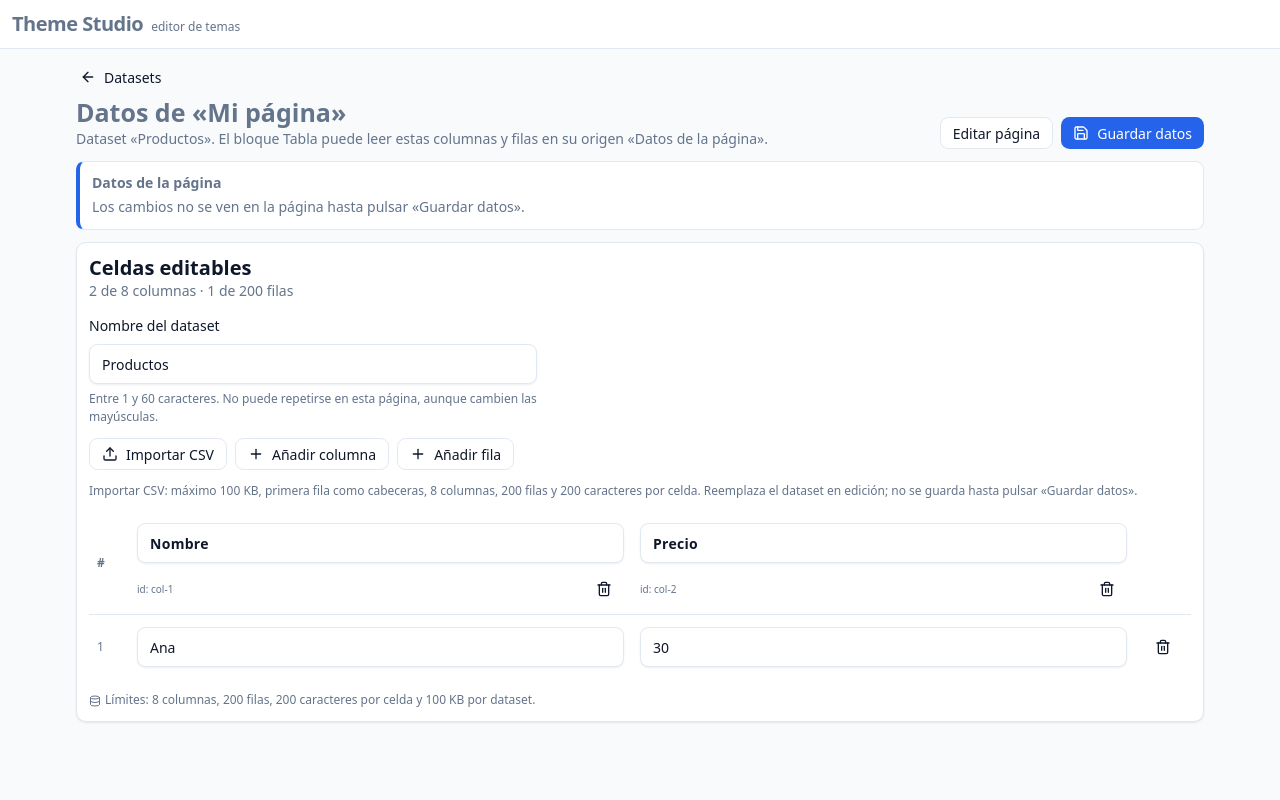
Test case: DatasetPage › elimina una columna solo tras confirmar en el diálogo
Expected: the field named "Etiqueta de la columna 2" is shown, [640,523,1127,563]
Click the button named "Eliminar columna 2" at (1107, 589), box [1087,569,1127,609]
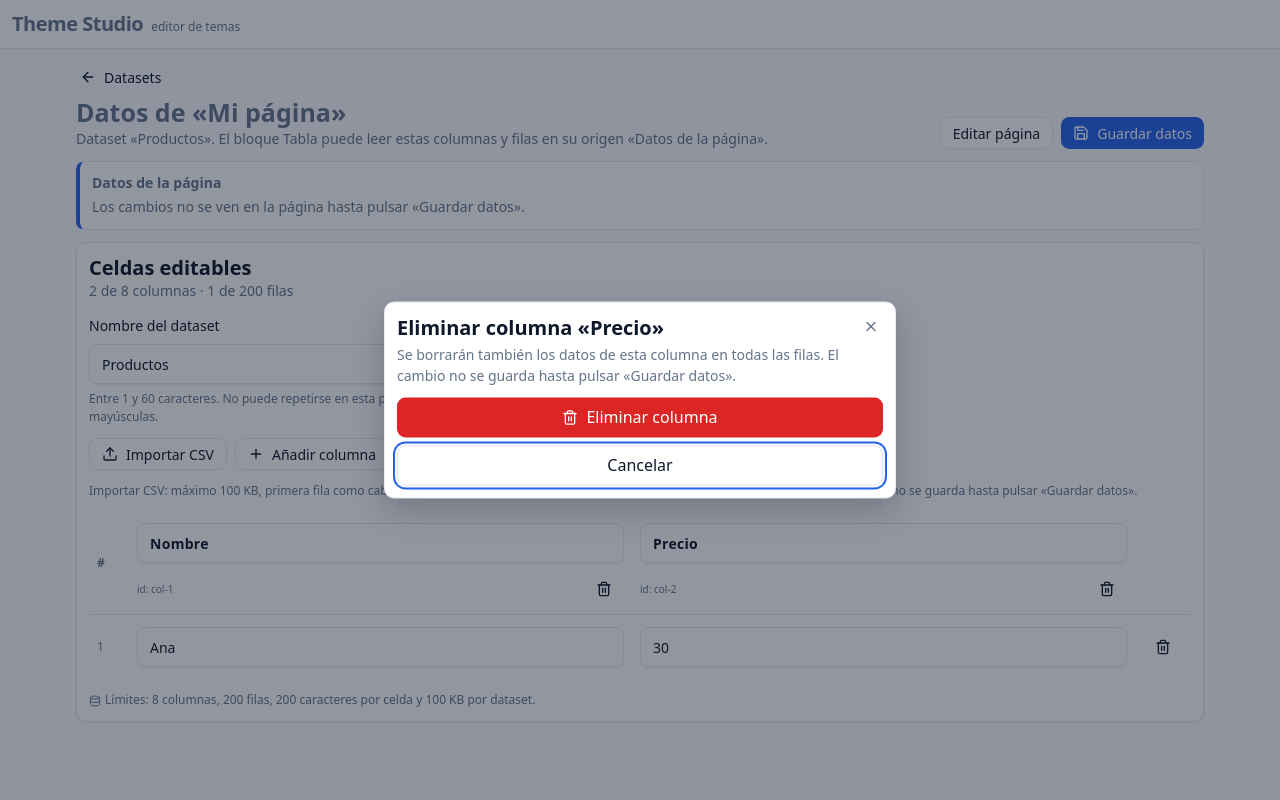
Expected: the dialog is shown, [384,302,896,498]
Expected: the heading "Eliminar columna «Precio»" is shown, [397,314,664,340]
Click the button "Eliminar columna" at (640, 418), box [397,398,883,438]
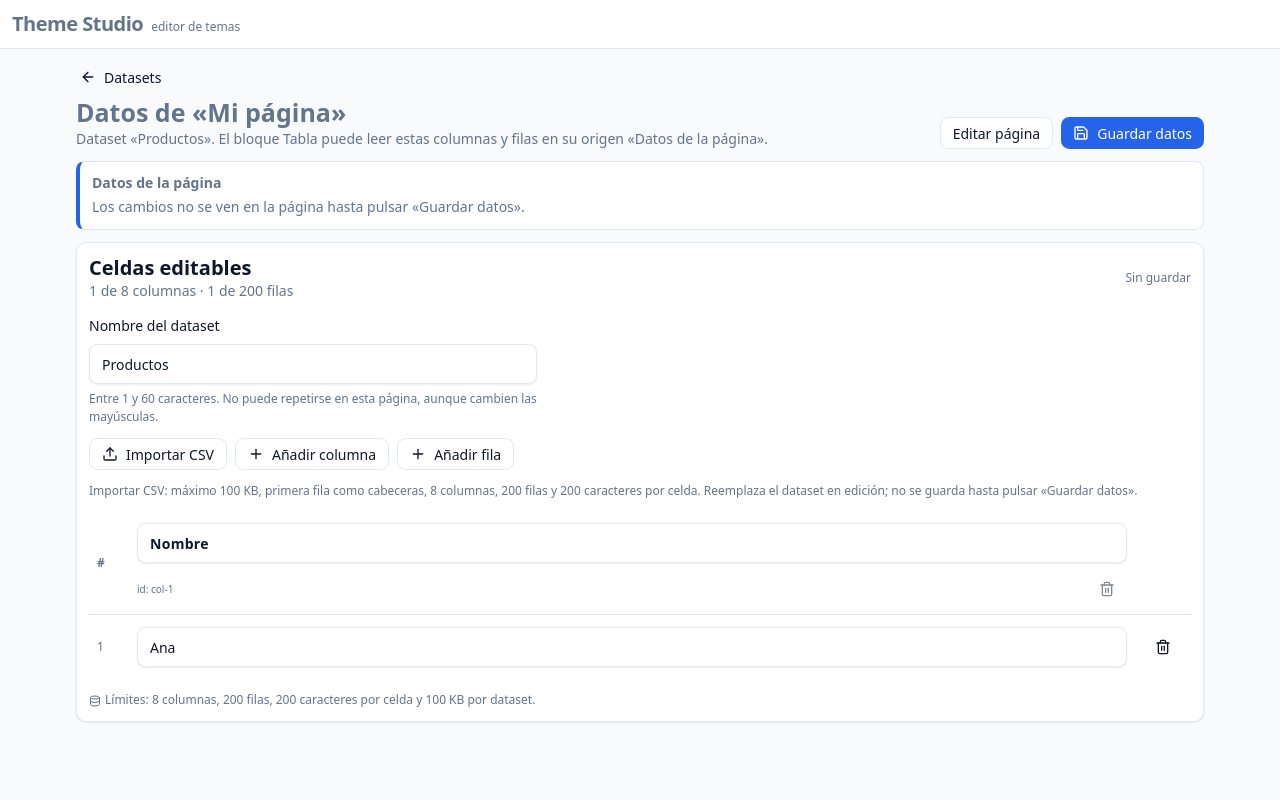
Expected: the field labelled "Etiqueta de la columna 2" is not shown
Expected: the text "Sin guardar" is shown, [1126,269,1191,287]
